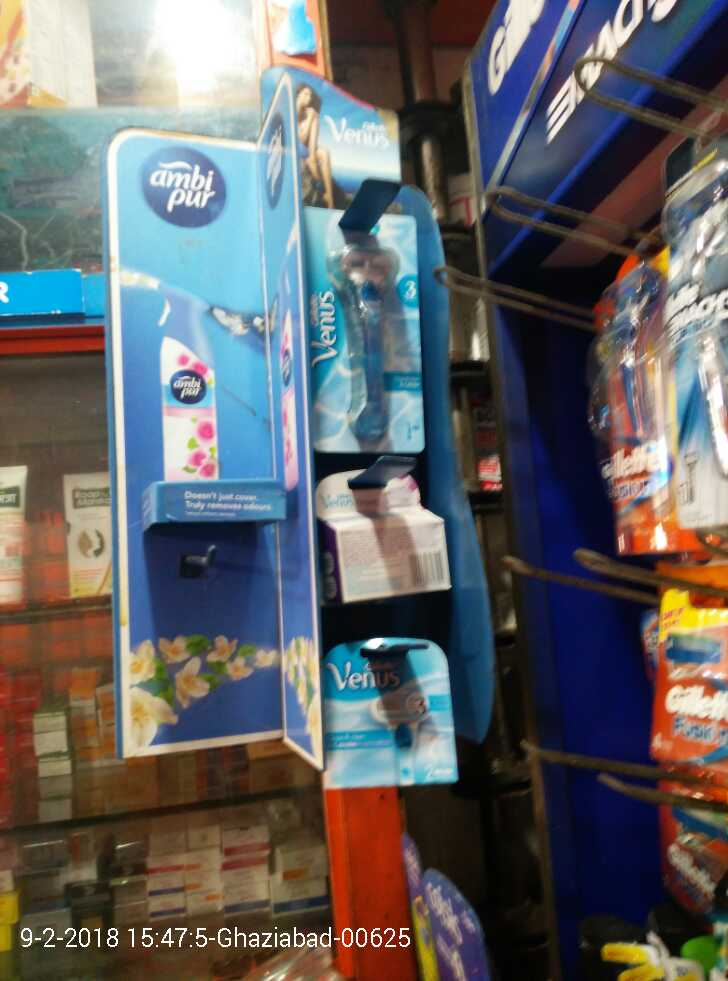beauty: (299, 220, 432, 452), (317, 645, 456, 792), (662, 215, 728, 524), (595, 265, 660, 560)
